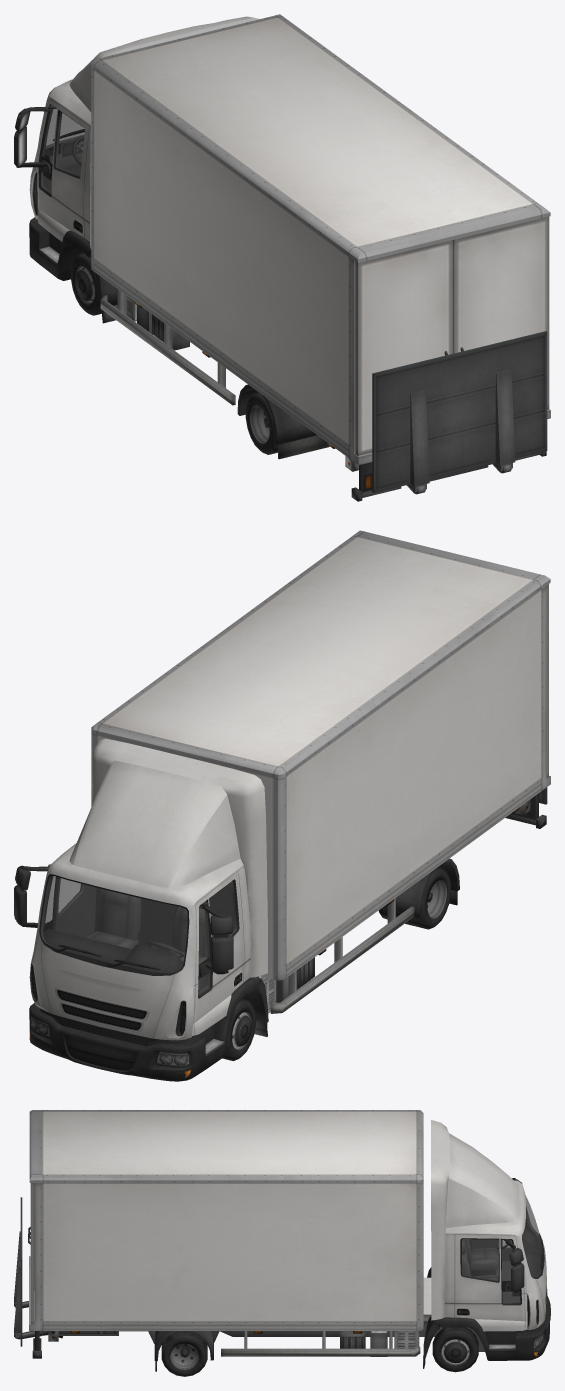
Rendered from car.glb.
3 renders of one model, top to bottom at view 1: azimuth 30°, elevation 25°; view 2: azimuth 150°, elevation 25°; view 3: azimuth 270°, elevation 25°, orthographic. The views are drawn at different scales.
Parts seen in each view (by area): view 1: MediumTruck01_MediumTruck01_0, Elevator02_MediumTruck01_0, DoorL_MediumTruck01_0, DoorR_MediumTruck01_0, MediumTruck01_MediumTruck01Glass_0, WheelBL007_MediumTruck01_0, WheelFL007_MediumTruck01_0; view 2: MediumTruck01_MediumTruck01_0, MediumTruck01_MediumTruck01Glass_0, WheelBL007_MediumTruck01_0, WheelFL007_MediumTruck01_0; view 3: MediumTruck01_MediumTruck01_0, MediumTruck01_MediumTruck01Glass_0, WheelFR006_MediumTruck01_0, WheelBR007_MediumTruck01_0, Elevator02_MediumTruck01_0, DoorR_MediumTruck01_0.
Part boxes in pixels (x1,y1,x2,y2): MediumTruck01_MediumTruck01_0: (14,14,550,501); Elevator02_MediumTruck01_0: (372,331,547,492); DoorL_MediumTruck01_0: (355,240,453,455); DoorR_MediumTruck01_0: (453,216,549,409); MediumTruck01_MediumTruck01Glass_0: (41,109,84,193); WheelBL007_MediumTruck01_0: (245,392,277,454); WheelFL007_MediumTruck01_0: (71,253,101,315); MediumTruck01_MediumTruck01_0: (14,530,550,1081); MediumTruck01_MediumTruck01Glass_0: (41,876,236,995); WheelBL007_MediumTruck01_0: (378,867,450,929); WheelFL007_MediumTruck01_0: (222,998,255,1061); MediumTruck01_MediumTruck01_0: (29,1110,550,1371); MediumTruck01_MediumTruck01Glass_0: (462,1195,542,1303); WheelFR006_MediumTruck01_0: (432,1326,478,1372); WheelBR007_MediumTruck01_0: (161,1332,207,1376); Elevator02_MediumTruck01_0: (14,1197,22,1346); DoorR_MediumTruck01_0: (28,1183,34,1324).
Bounding box in the file's own units: 2.93 × 3.55 × 8.5.
2 materials, 2 textured.
